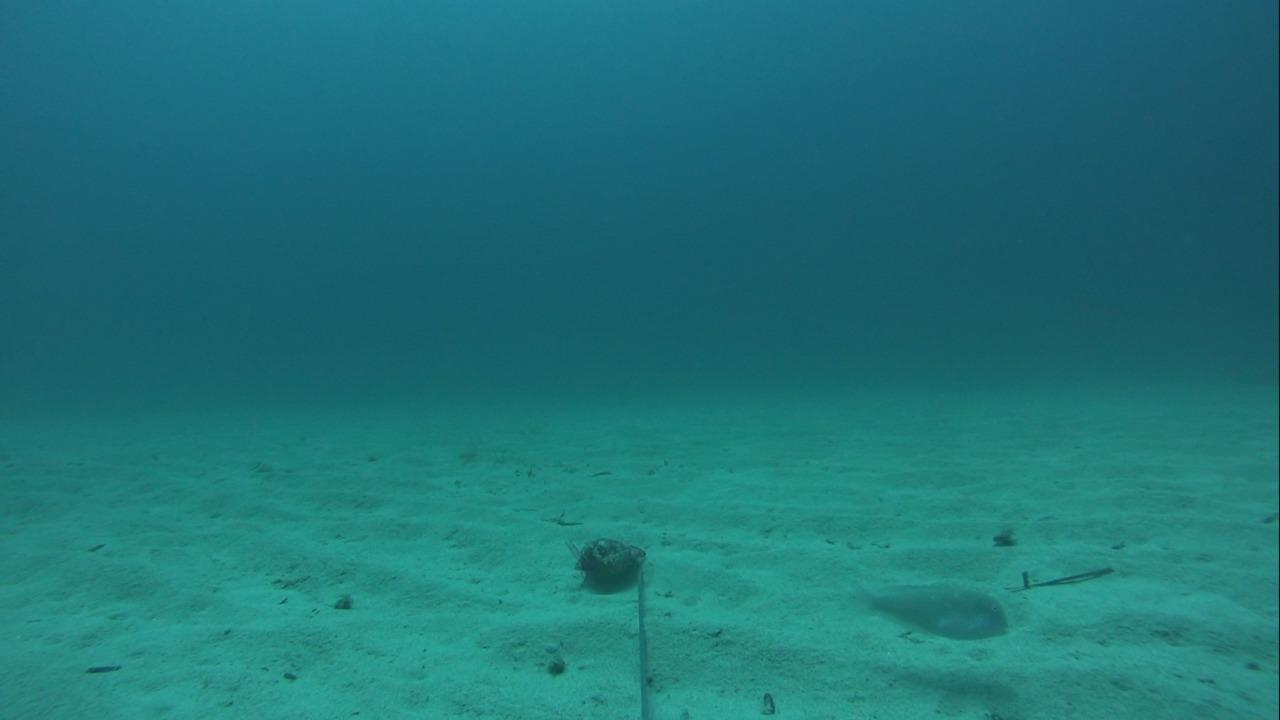raor: (851, 579, 1012, 646)
